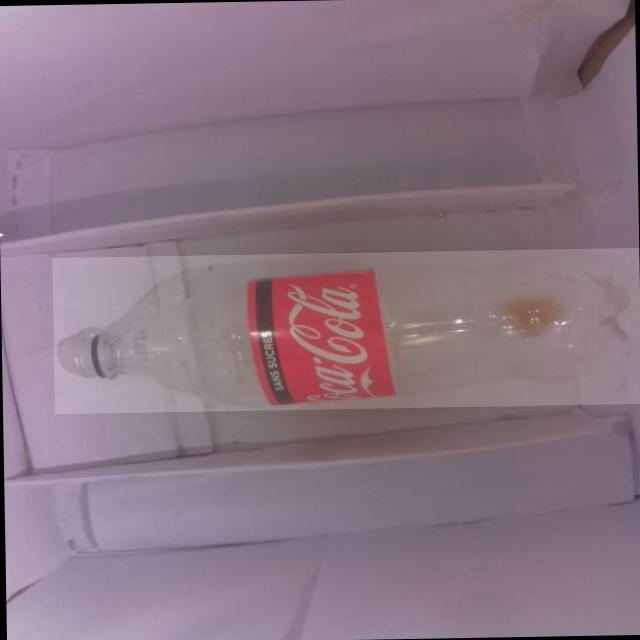good: (49, 248, 639, 414)
